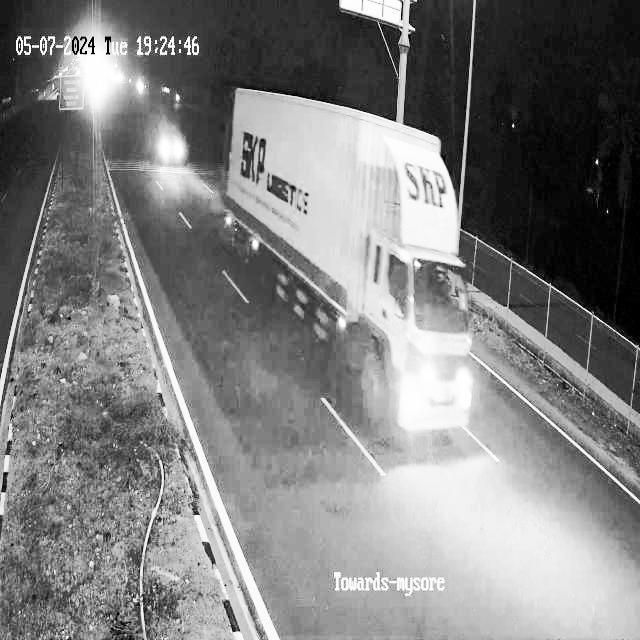Truck: (221, 86, 474, 449)
